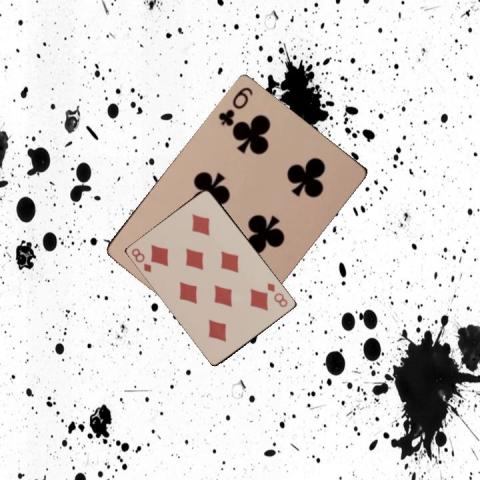6c: (214, 84, 254, 128)
8d: (128, 245, 153, 274), (265, 279, 289, 309)
